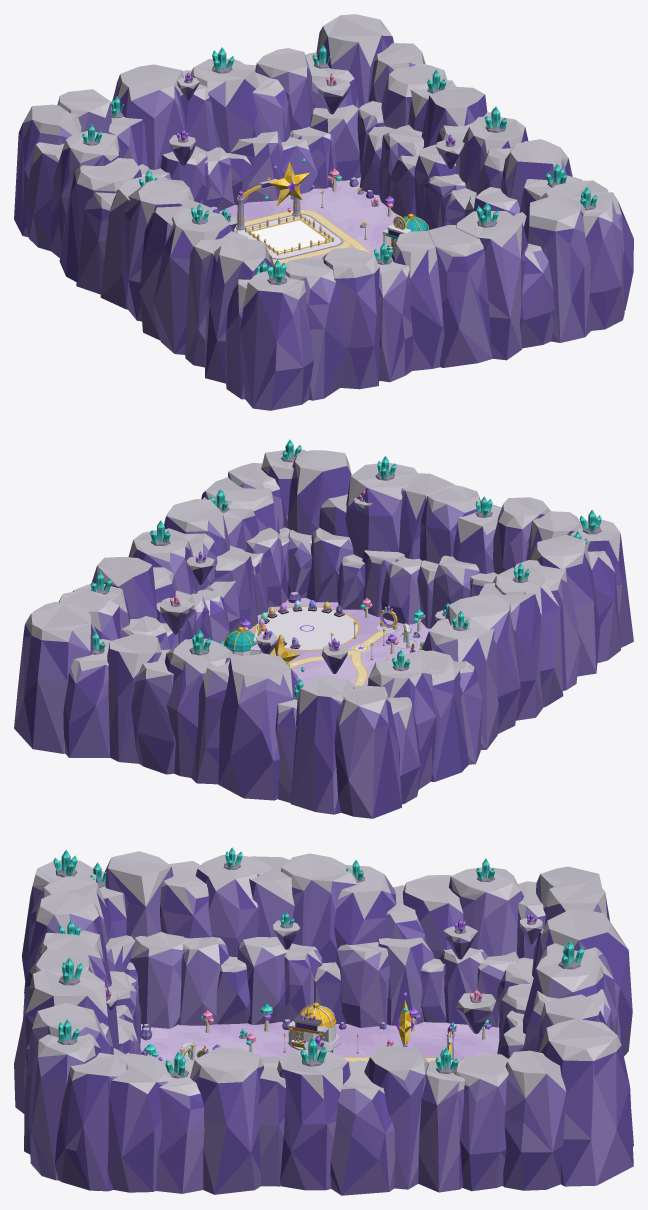
File: star-base.glb
3 views of the same model, one above another, from view 1: azimuth 30°, elevation 25°; view 2: azimuth 150°, elevation 25°; view 3: azimuth 270°, elevation 25° (orthographic). The views are drawn at different scales.
Parts seen in each view (by area): view 1: Batched static valley, Spin_y_25 body; view 2: Batched static valley; view 3: Batched static valley.
Boxes of the visible parts, left/top/right/bottom form: Batched static valley: left=14, top=14, right=633, bottom=410; Spin_y_25 body: left=264, top=158, right=314, bottom=212; Batched static valley: left=14, top=439, right=633, bottom=818; Batched static valley: left=14, top=847, right=633, bottom=1195.
Size of the model in its own units: 133 by 42.71 by 157.
Materials: 18 (13 with a texture image).
